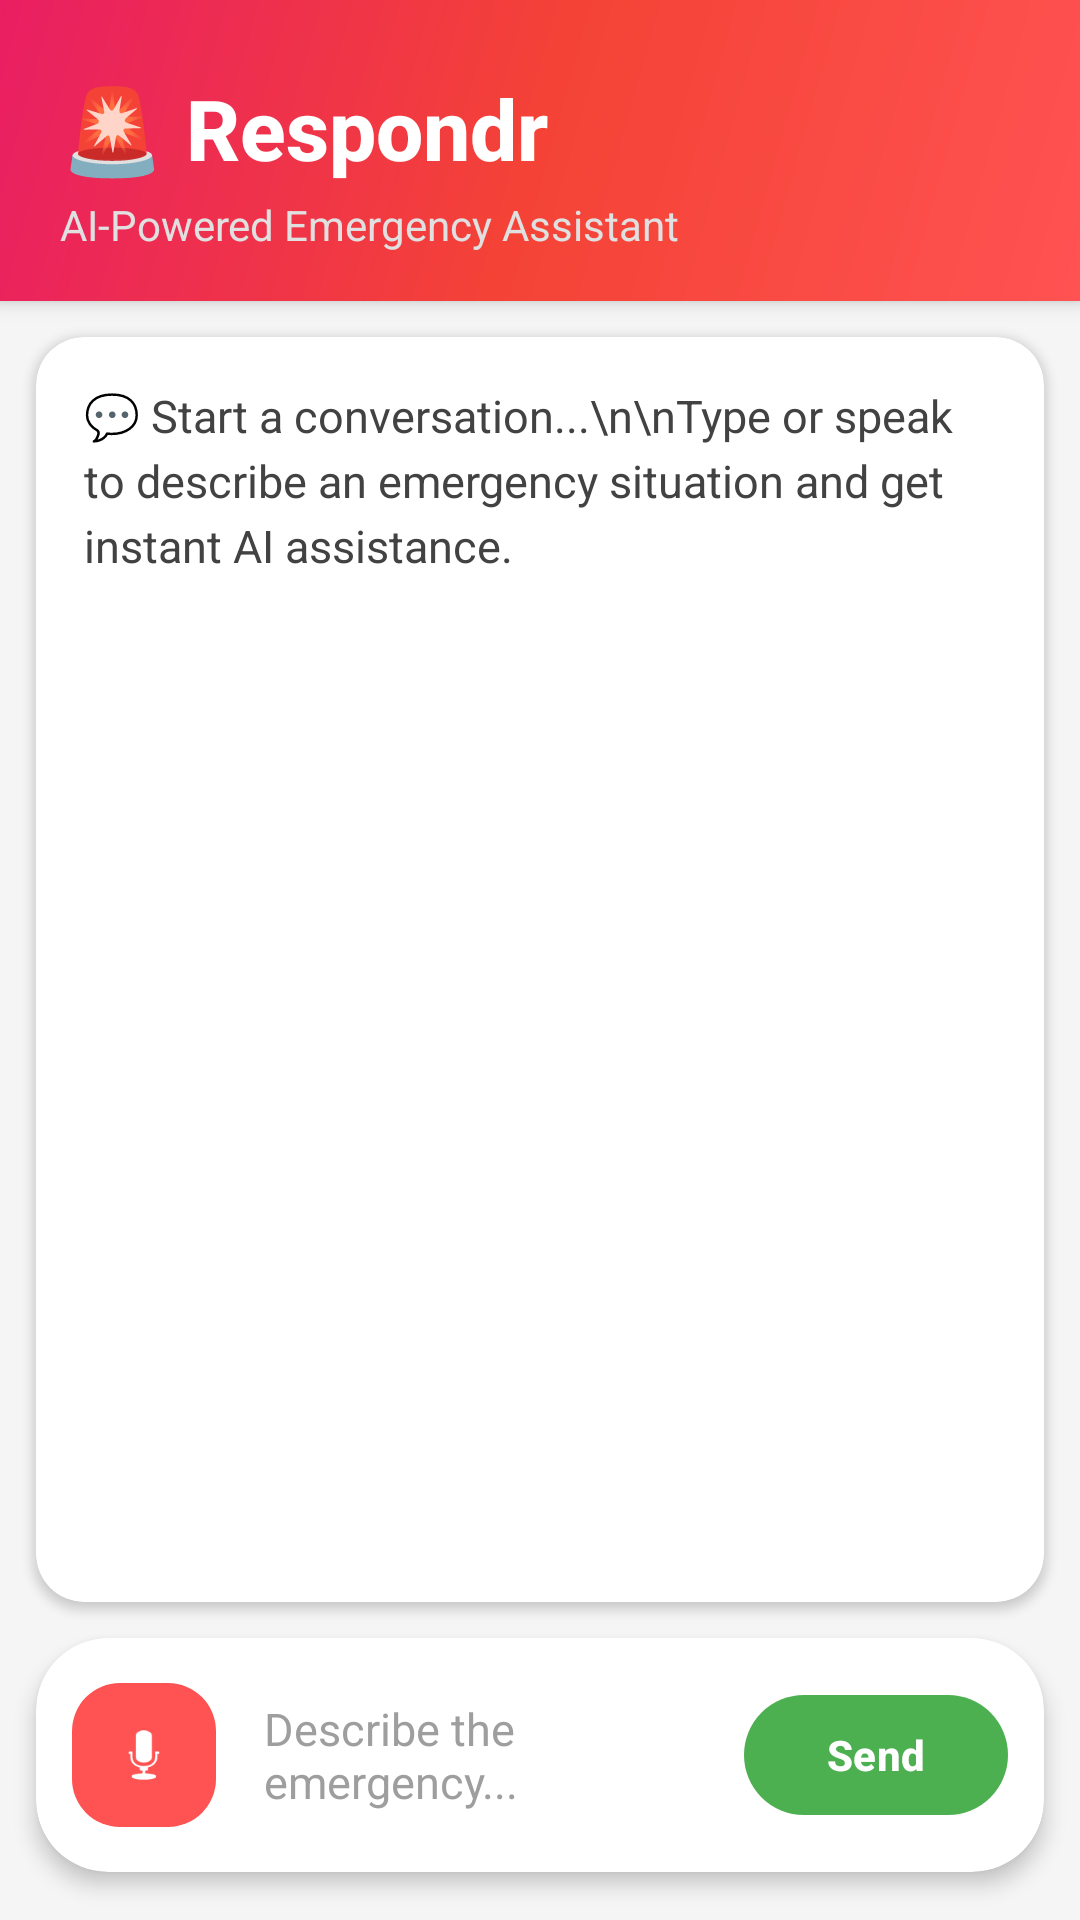

Named icons in this screenshot (1080px x 1920px) and their bounding boxes, (x1, y1, x2, y2):
Speak: (72, 1683, 216, 1827)
